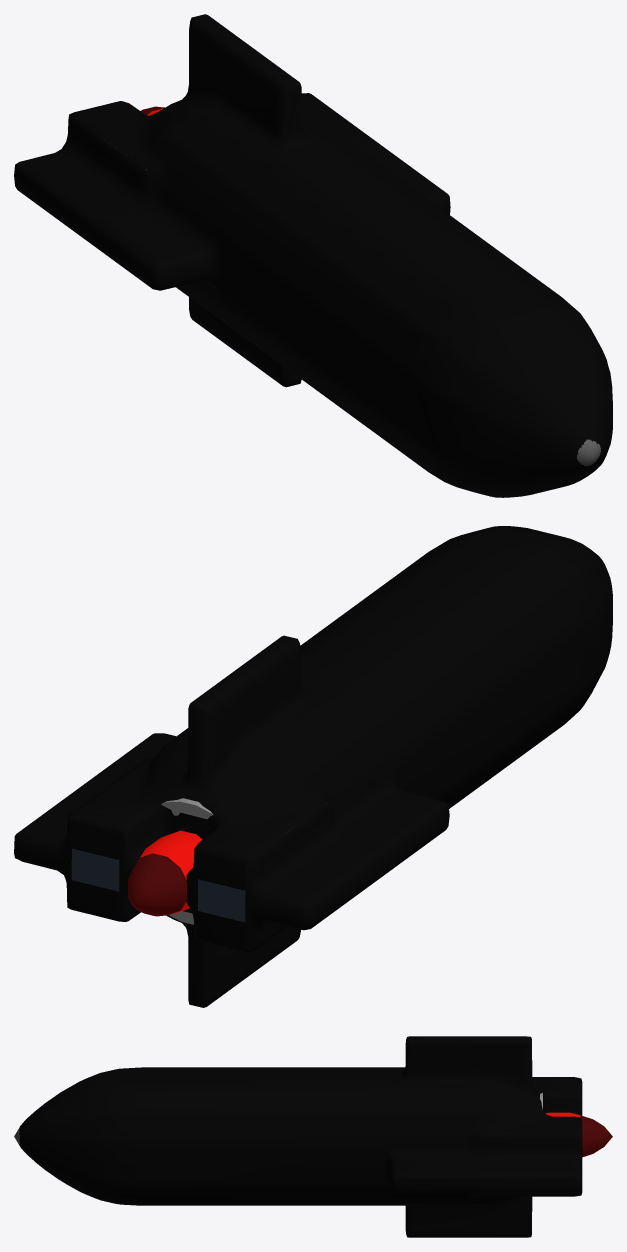
The model's file is newshp-95.glb.
3 renders of one model, top to bottom at view 1: azimuth 30°, elevation 25°; view 2: azimuth 150°, elevation 25°; view 3: azimuth 270°, elevation 25°, orthographic. The views are drawn at different scales.
Parts seen in each view (by area): view 1: newshp-95_outline; view 2: newshp-95_outline, newshp-95; view 3: newshp-95_outline, newshp-95.
Boxes of the visible parts, x1=… form: newshp-95_outline: x1=14, y1=14, x2=612, y2=497; newshp-95_outline: x1=14, y1=526, x2=612, y2=1007; newshp-95: x1=71, y1=798, x2=326, y2=924; newshp-95_outline: x1=19, y1=1036, x2=582, y2=1237; newshp-95: x1=14, y1=1092, x2=612, y2=1157.
Bounding box in the file's own units: 0.4298 × 0.4165 × 1.14.
